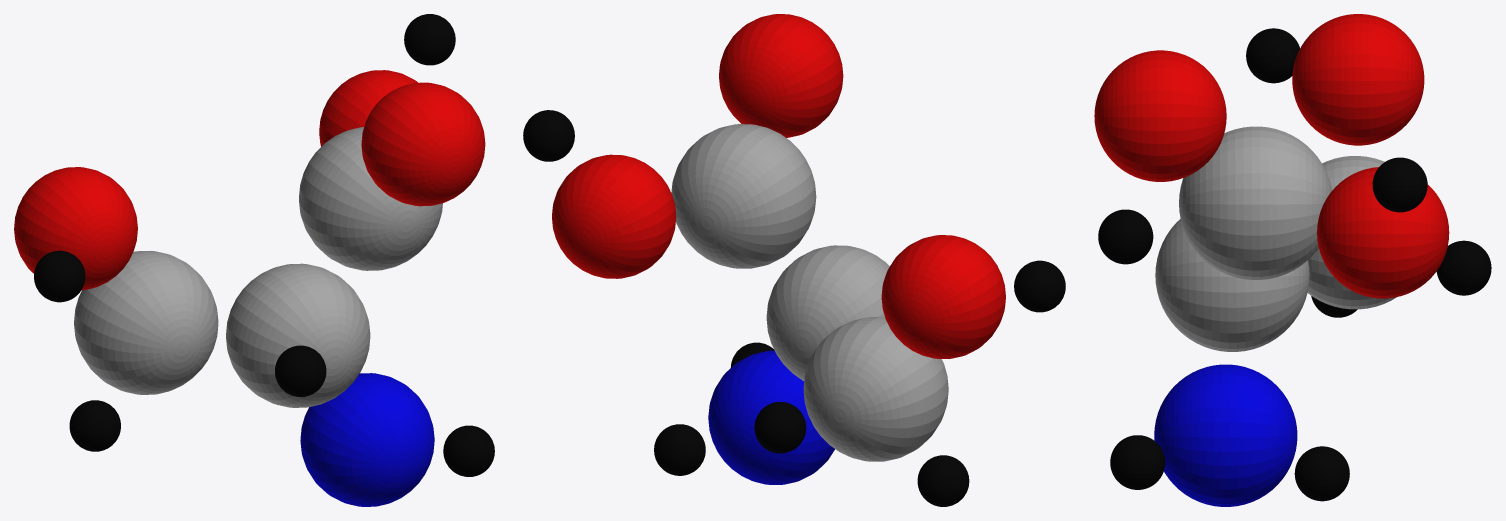
The model's file is Serine.glb.
The picture shows the model from 3 angles, left to right: view 1: azimuth 30°, elevation 25°; view 2: azimuth 150°, elevation 25°; view 3: azimuth 270°, elevation 25°; orthographic projection. The views are drawn at different scales.
Parts seen in each view (by area): view 1: world; view 2: world; view 3: world.
Boxes of the visible parts, x1,y1,x2,y2 form: world: (14,14,494,506); world: (523,14,1065,506); world: (1094,14,1491,506).
Bounding box in the file's own units: 5.3 × 4.57 × 3.6.
